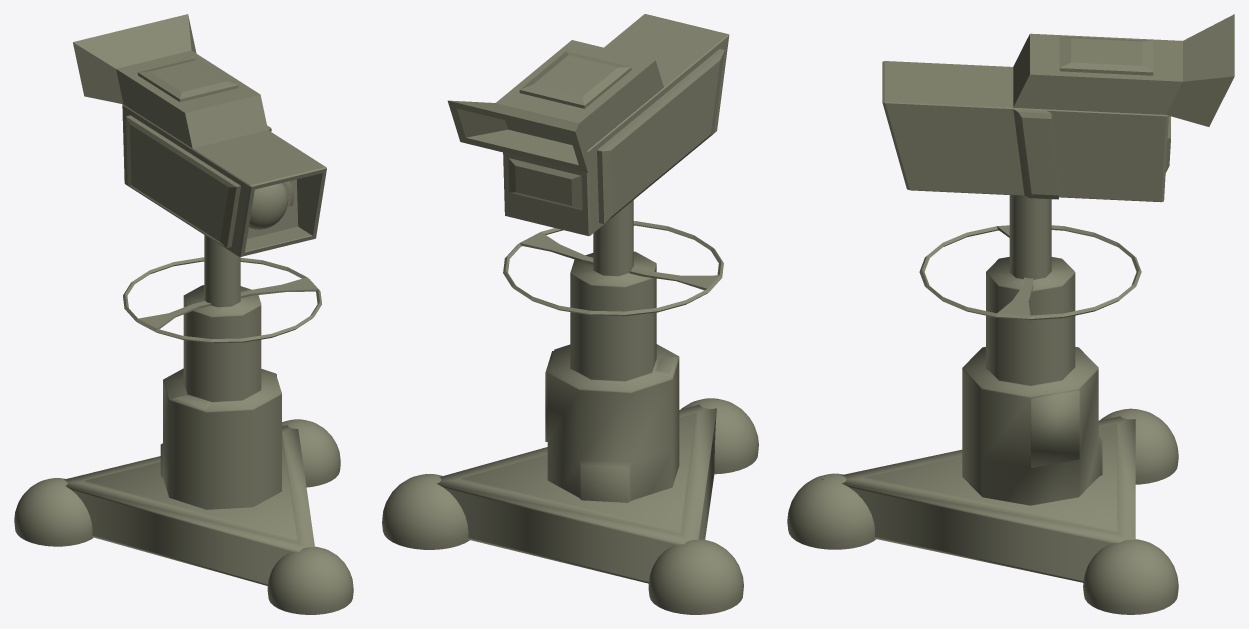
The picture shows the model from 3 angles, left to right: view 1: azimuth 30°, elevation 25°; view 2: azimuth 150°, elevation 25°; view 3: azimuth 270°, elevation 25°; orthographic projection. The views are drawn at different scales.
Parts seen in each view (by area): view 1: Cube; view 2: Cube; view 3: Cube.
Boxes of the visible parts, left/top/right/bottom form: Cube: left=14, top=14, right=353, bottom=614; Cube: left=382, top=14, right=758, bottom=614; Cube: left=787, top=14, right=1234, bottom=614.
Bounding box in the file's own units: 156 × 206 × 172.
